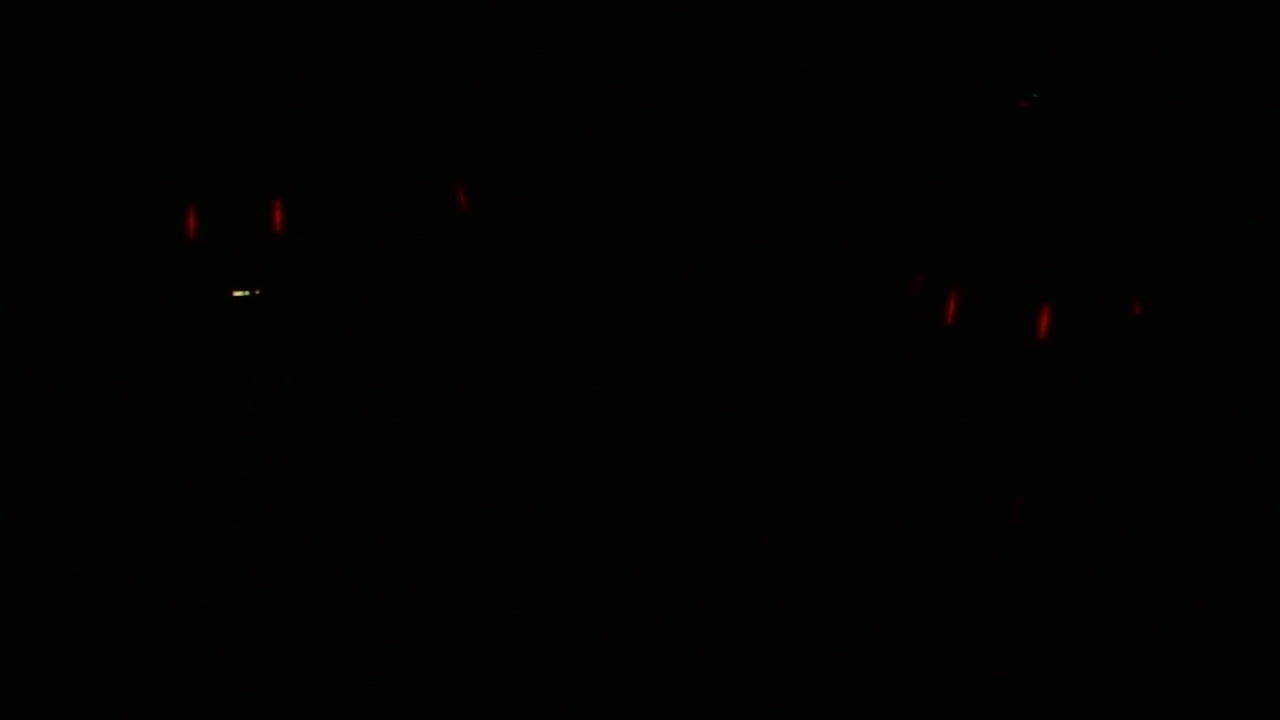pair1: (183, 191, 292, 243), (944, 288, 1053, 338)
